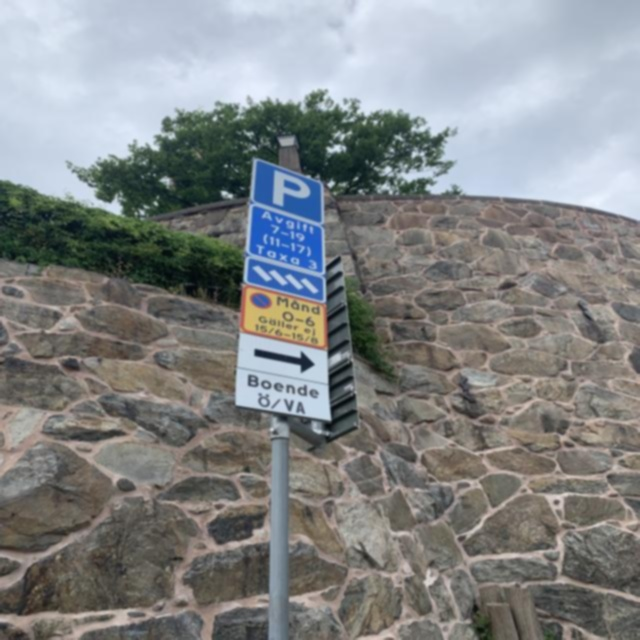P-skylt: (246, 157, 330, 224)
